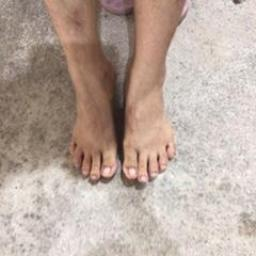Dorsal View -Both Feet-: (54, 47, 196, 189)
